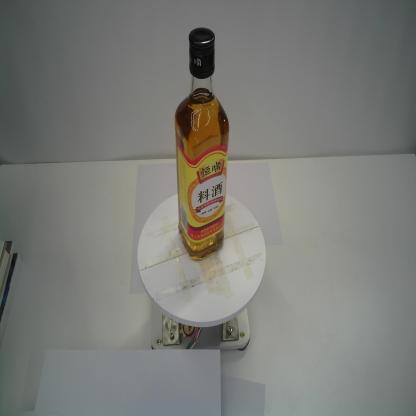Seasoner: (174, 27, 230, 262)
